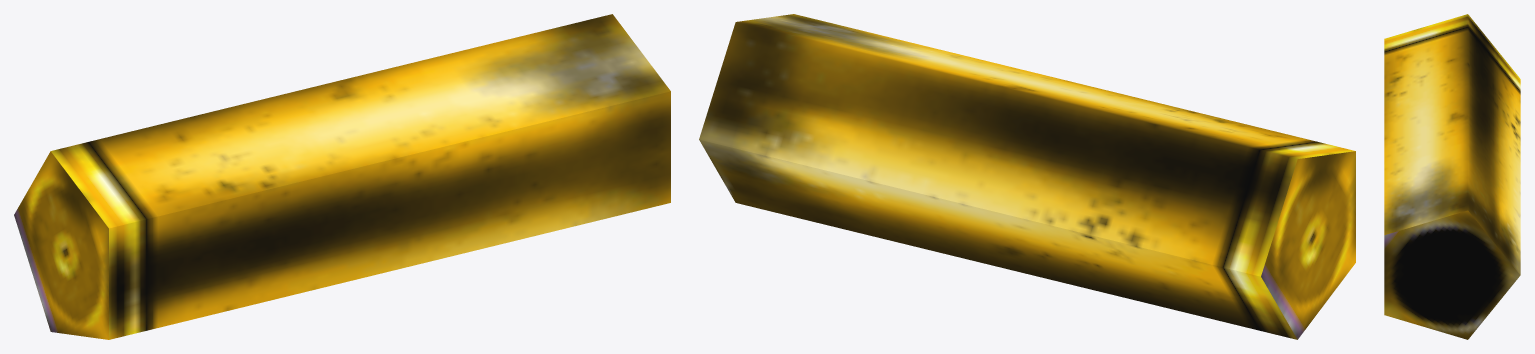
Rendered from shellcase.gltf.
3 views of the same model, side by side, from view 1: azimuth 30°, elevation 25°; view 2: azimuth 150°, elevation 25°; view 3: azimuth 270°, elevation 25° (orthographic). The views are drawn at different scales.
Visible parts, largest first — view 1: shellcase; view 2: shellcase; view 3: shellcase.
Boxes of the visible parts, x1=… form: shellcase: x1=14, y1=14, x2=670, y2=339; shellcase: x1=699, y1=14, x2=1355, y2=339; shellcase: x1=1384, y1=14, x2=1520, y2=339.
Bounding box in the file's own units: 0.1675 × 0.0515 × 0.049.
Materials: 1 (1 with a texture image).
